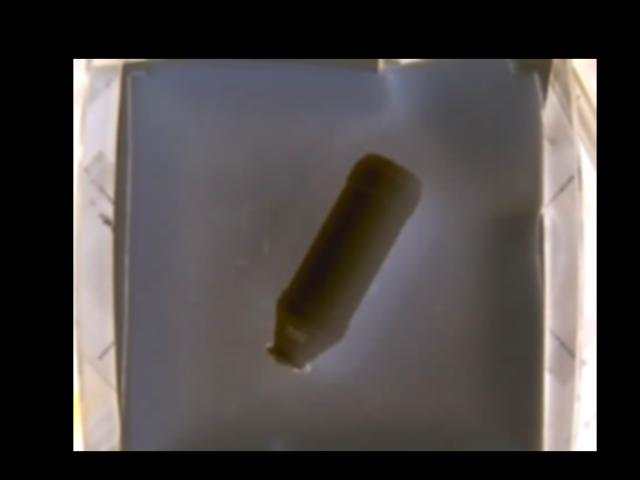Bottle: (268, 151, 420, 371)
